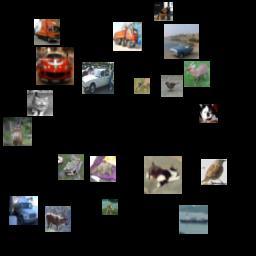automobile: (36, 47, 74, 85), (164, 24, 199, 59), (82, 62, 114, 94)
bird: (201, 159, 227, 185), (161, 75, 183, 97)
cat: (144, 156, 182, 194), (27, 90, 53, 116), (90, 156, 116, 182), (199, 104, 218, 123)
deer: (3, 117, 32, 146), (184, 61, 210, 87), (45, 206, 71, 232), (102, 199, 118, 215), (134, 78, 150, 94)
dog: (154, 2, 173, 21)
frog: (58, 154, 84, 180)
ship: (179, 205, 208, 234)
truck: (9, 196, 38, 225), (113, 22, 142, 51), (34, 19, 60, 45)
